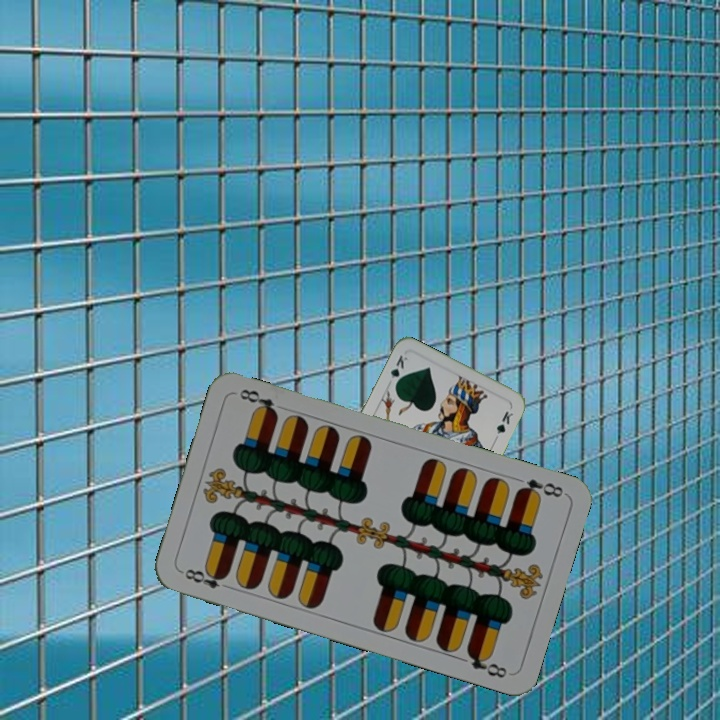E8: (177, 564, 234, 593), (509, 473, 566, 502)
GK: (385, 351, 410, 390)
